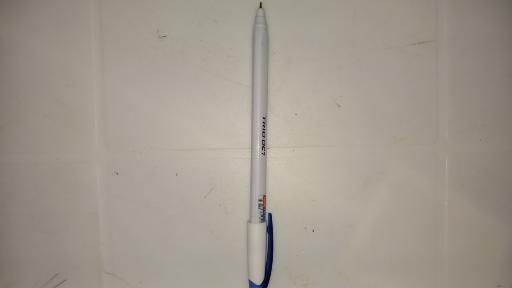pen: (246, 0, 275, 287)
